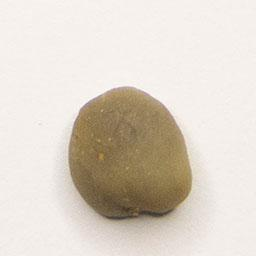premium: (65, 82, 193, 222)
